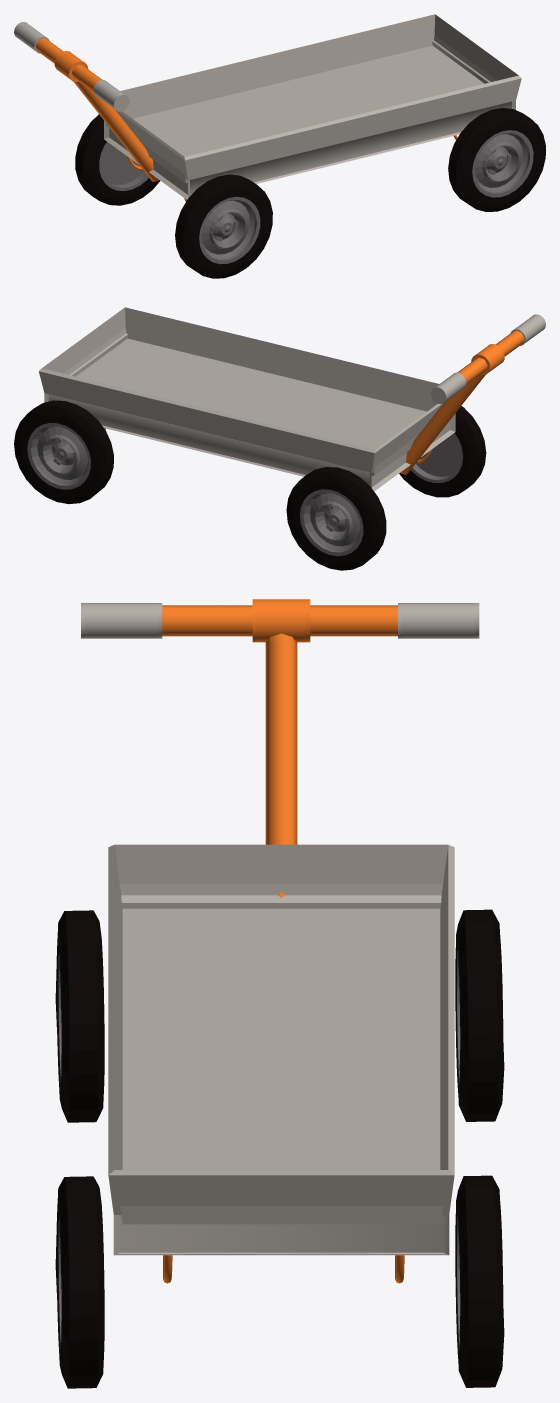
File: tolley.fbx
3 renders of one model, top to bottom at view 1: azimuth 30°, elevation 25°; view 2: azimuth 150°, elevation 25°; view 3: azimuth 270°, elevation 25°, orthographic. The views are drawn at different scales.
Visible parts, largest first — view 1: Cart; view 2: Cart; view 3: Cart.
Part boxes in pixels (<box>): Cart: <box>14,14,545,278</box>; Cart: <box>14,307,545,570</box>; Cart: <box>55,599,504,1388</box>.
Bounding box in the file's own units: 764 × 349 × 345.
